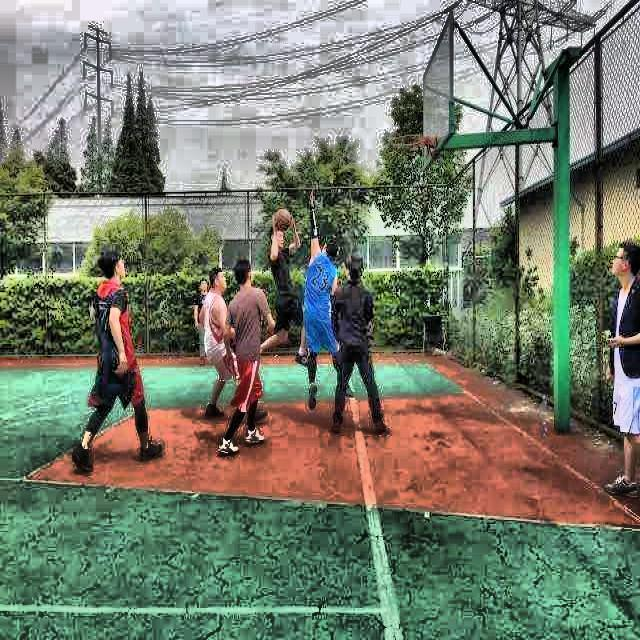board: (272, 208, 291, 231)
